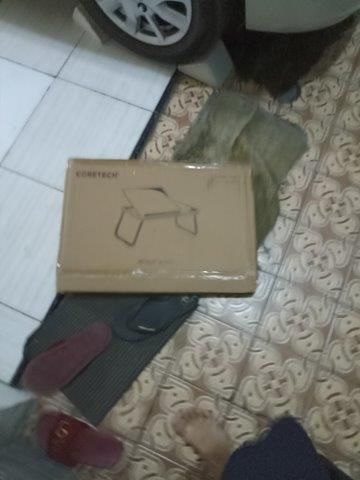kardus: (56, 160, 254, 295)
